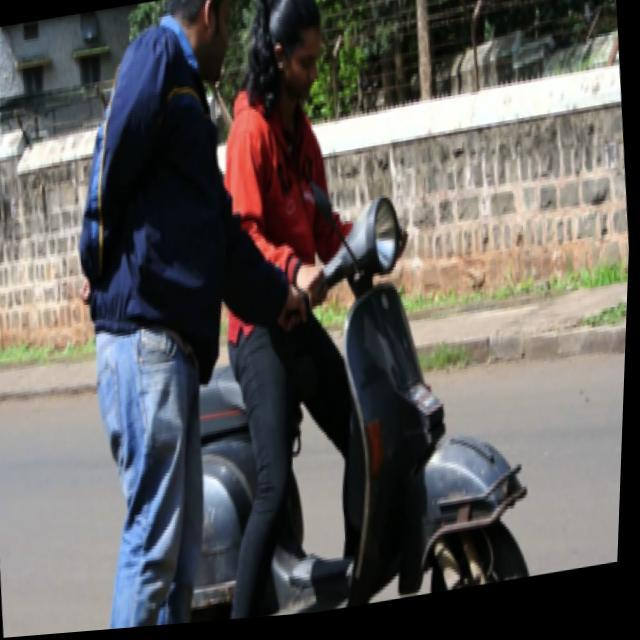Nonhelmet: (241, 0, 341, 116)
